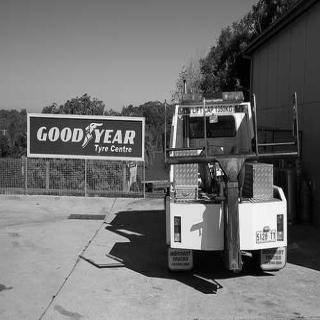Towing_truck: (161, 84, 300, 276)
